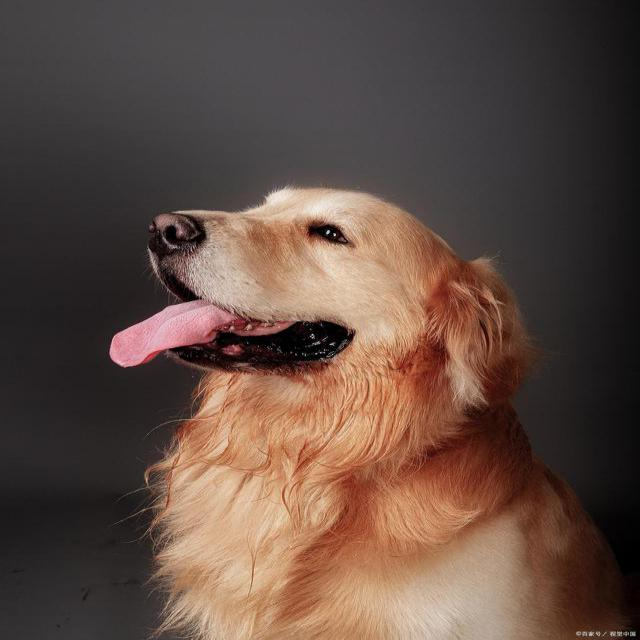eye: (305, 219, 356, 249)
